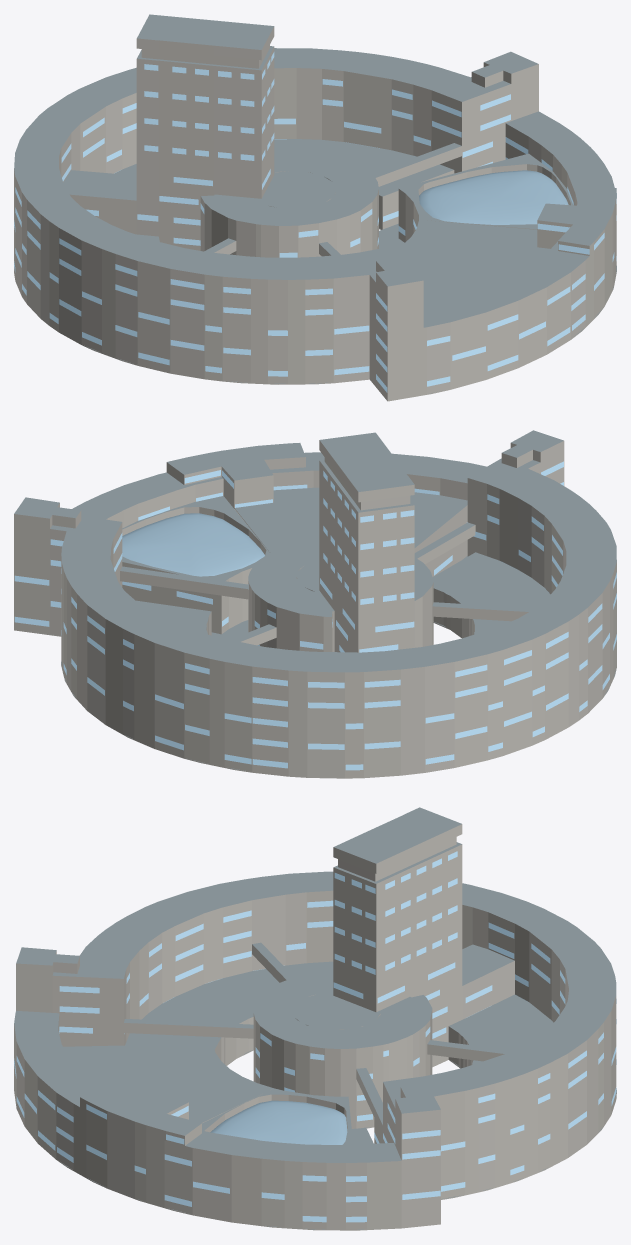
Rendered from detail.glb.
The picture shows the model from 3 angles, top to bottom: view 1: azimuth 30°, elevation 25°; view 2: azimuth 150°, elevation 25°; view 3: azimuth 270°, elevation 25°; orthographic projection.
Visible parts, largest first — view 1: stone, window, metal; view 2: stone, window, metal; view 3: stone, window, metal.
Part boxes in pixels (x1,y1,x2,y2): stone: (14, 14, 616, 401); window: (14, 52, 616, 392); metal: (419, 170, 568, 224); stone: (14, 430, 616, 778); window: (14, 461, 616, 770); metal: (122, 513, 264, 576); stone: (14, 807, 616, 1230); window: (14, 851, 616, 1222); metal: (210, 1100, 347, 1144).
Size of the model in its own units: 162 by 68 by 162.
